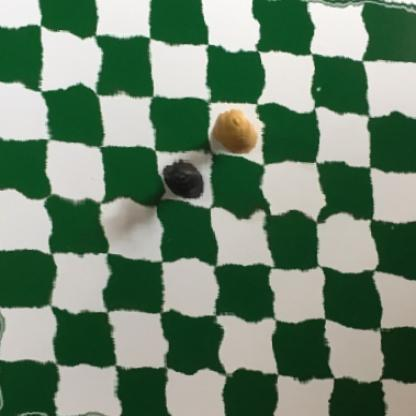black-queen: (158, 158, 207, 205)
white-queen: (210, 103, 260, 160)
